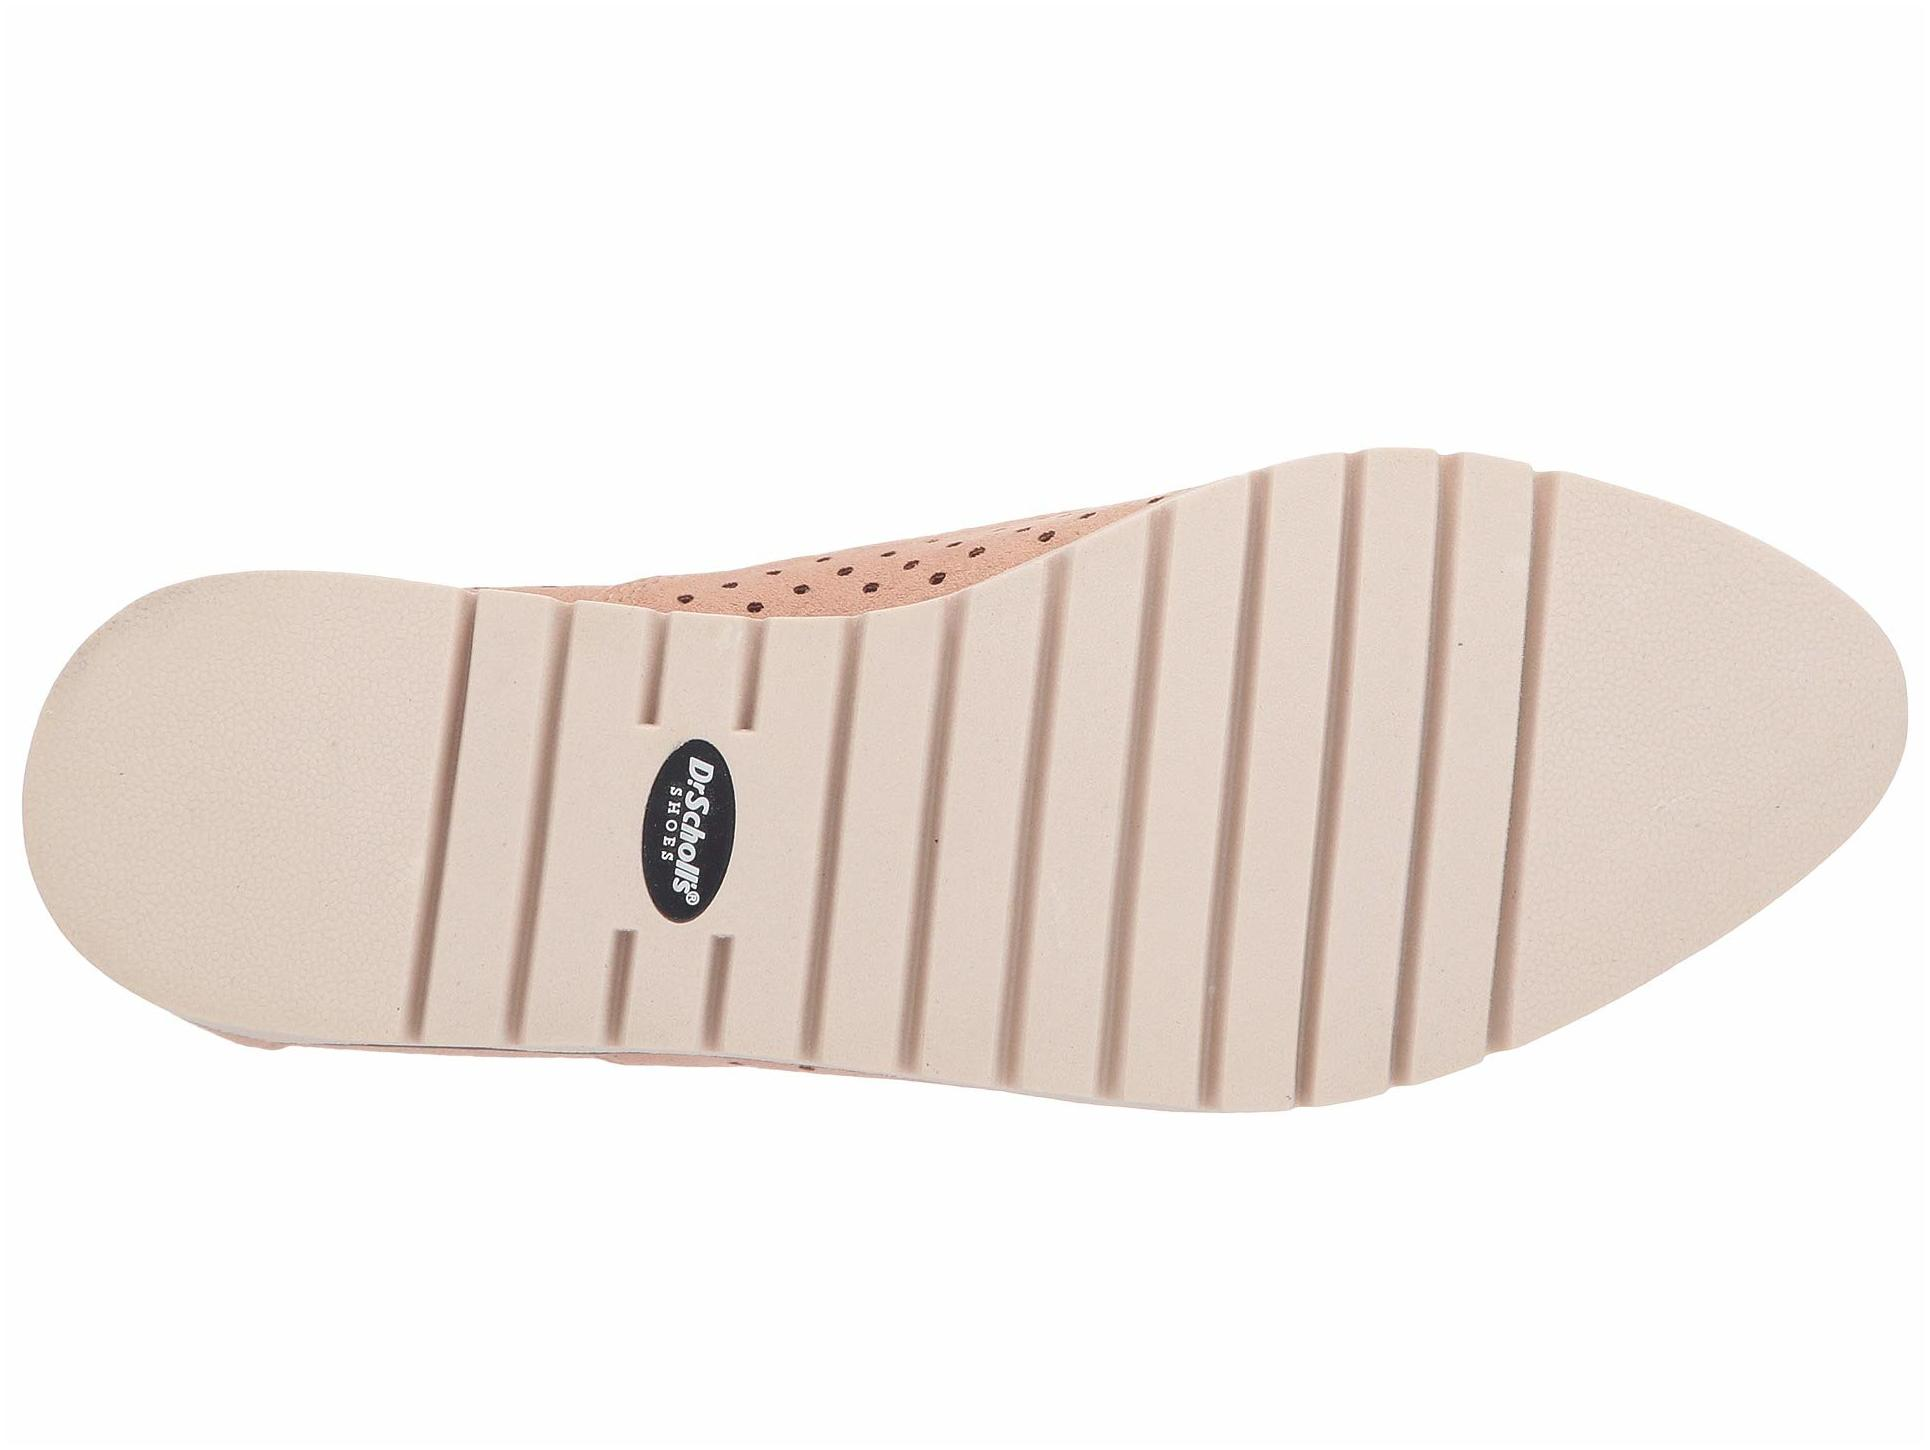line: (1071, 599, 1552, 1001)
